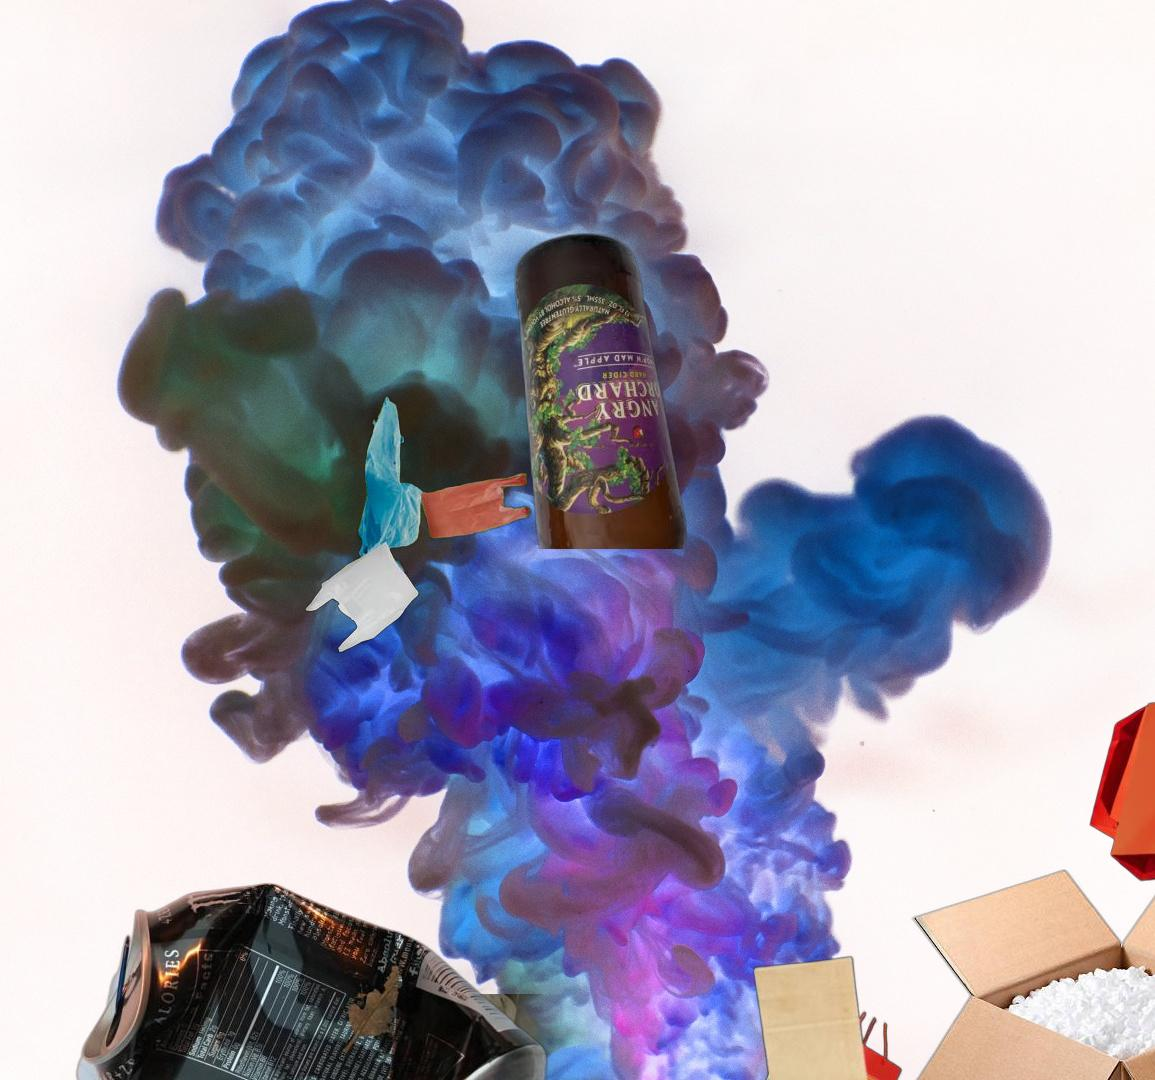glass: (509, 231, 690, 549), (372, 994, 718, 1080)
metal-cans: (73, 882, 548, 1080)
paper-bag: (732, 954, 905, 1080), (1088, 687, 1155, 909)
penholder: (302, 946, 612, 1080)
plastic-bag: (304, 388, 560, 656)
trashbox-cardboard: (909, 864, 1155, 1080)
